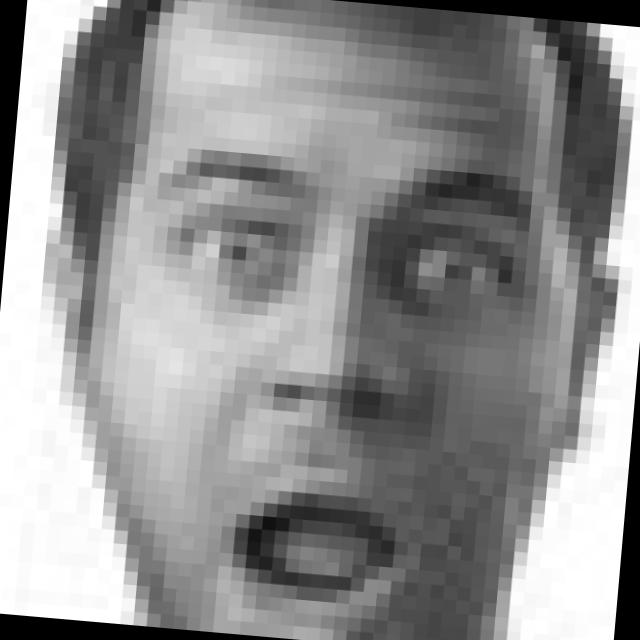surprise: (105, 134, 544, 632)
